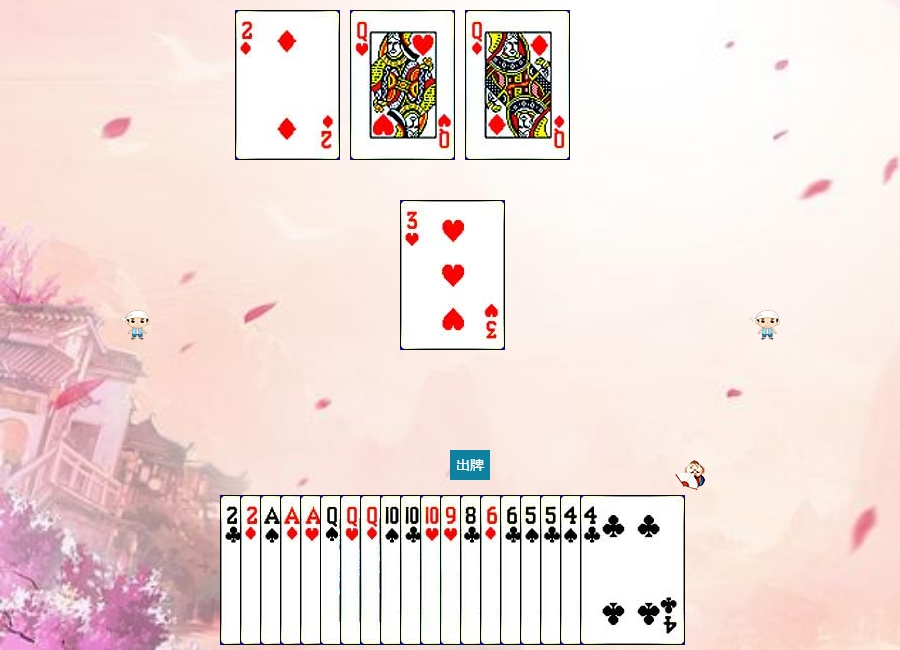10~2: (400, 495, 505, 645)
10~3: (420, 495, 525, 645)
10~4: (380, 495, 485, 645)
12~1: (465, 10, 570, 160), (360, 495, 465, 645)
12~3: (350, 10, 455, 160), (340, 495, 445, 645)
12~4: (320, 495, 425, 645)
14~1: (280, 495, 385, 645)
14~3: (300, 495, 405, 645)
14~4: (260, 495, 365, 645)
15~1: (235, 10, 340, 160), (240, 495, 345, 645)
15~2: (220, 495, 325, 645)
3~3: (400, 200, 505, 350)
4~2: (580, 495, 685, 645)
4~4: (560, 495, 665, 645)
5~2: (540, 495, 645, 645)
5~4: (520, 495, 625, 645)
6~1: (480, 495, 585, 645)
6~2: (500, 495, 605, 645)
8~2: (460, 495, 565, 645)
9~3: (440, 495, 545, 645)
